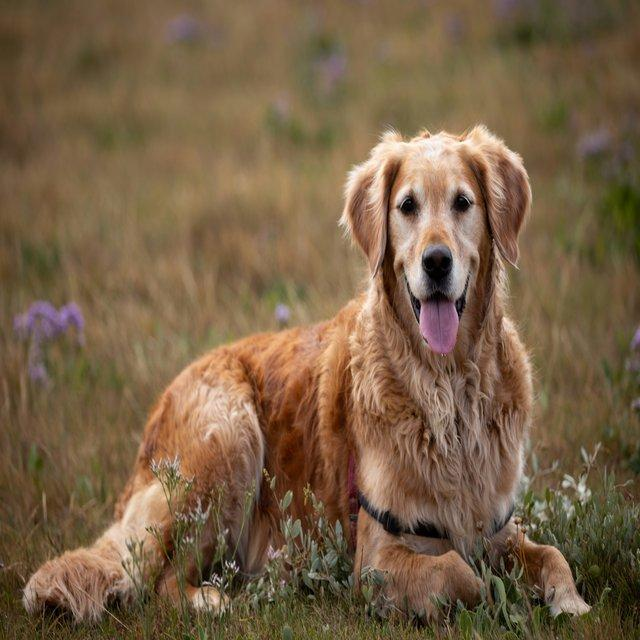retriever: (20, 123, 593, 631)
